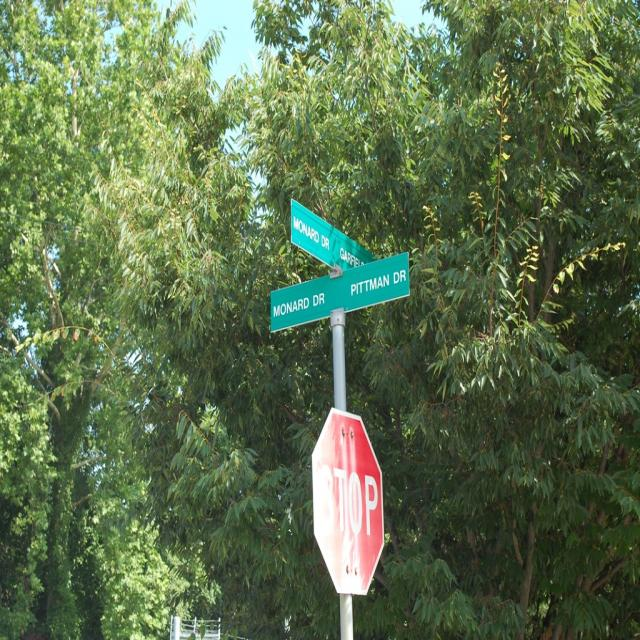Stop-sign: (312, 403, 386, 598)
